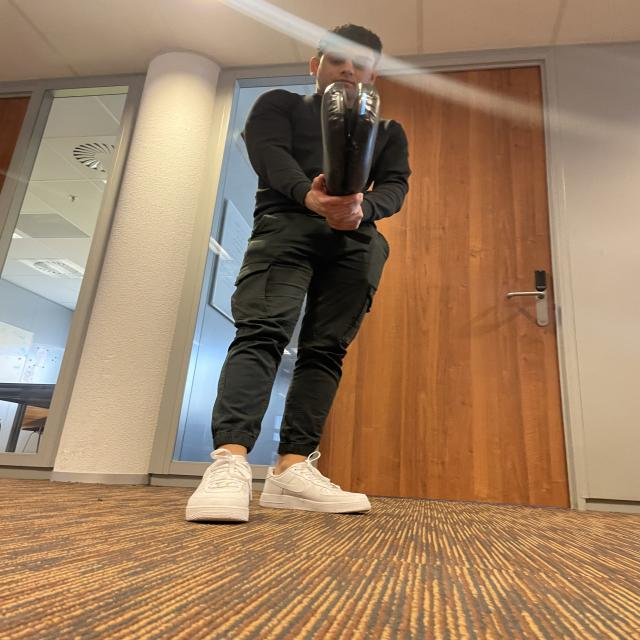paddle: (317, 82, 378, 200)
trigger: (356, 89, 372, 117)
